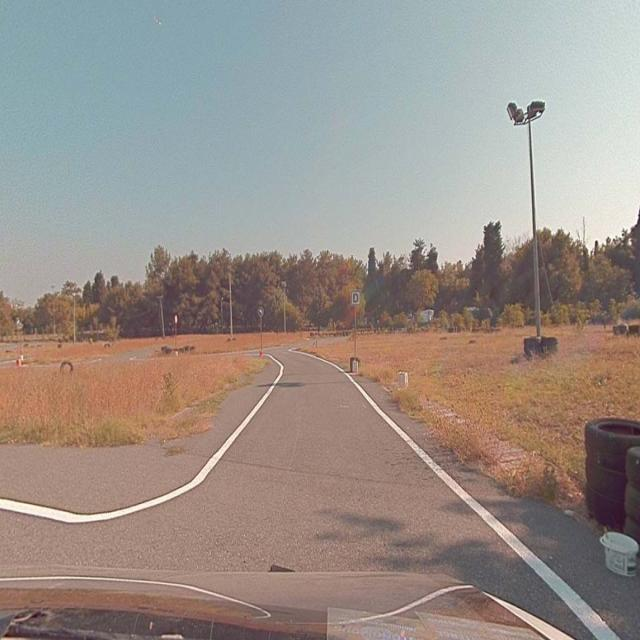durak: (352, 292, 360, 304)
